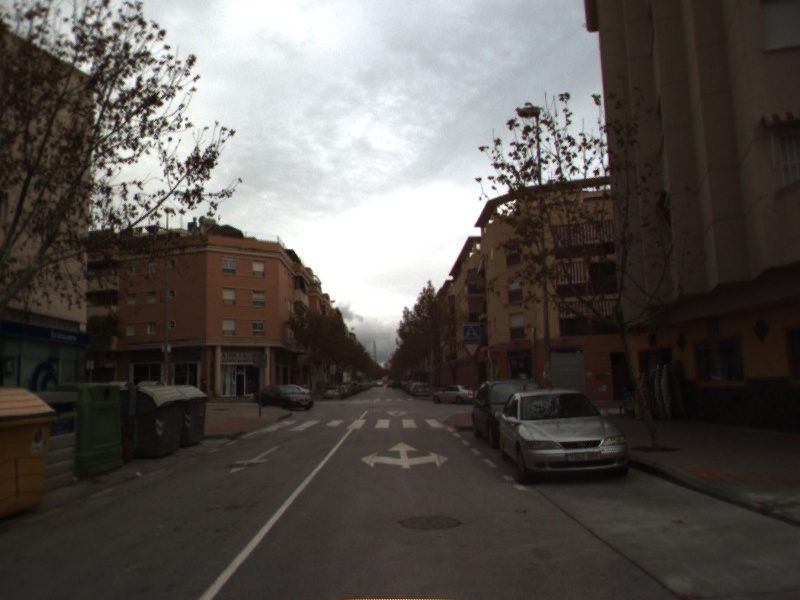STRAIGHT_LEFT_RIGHT: (359, 439, 451, 470)
